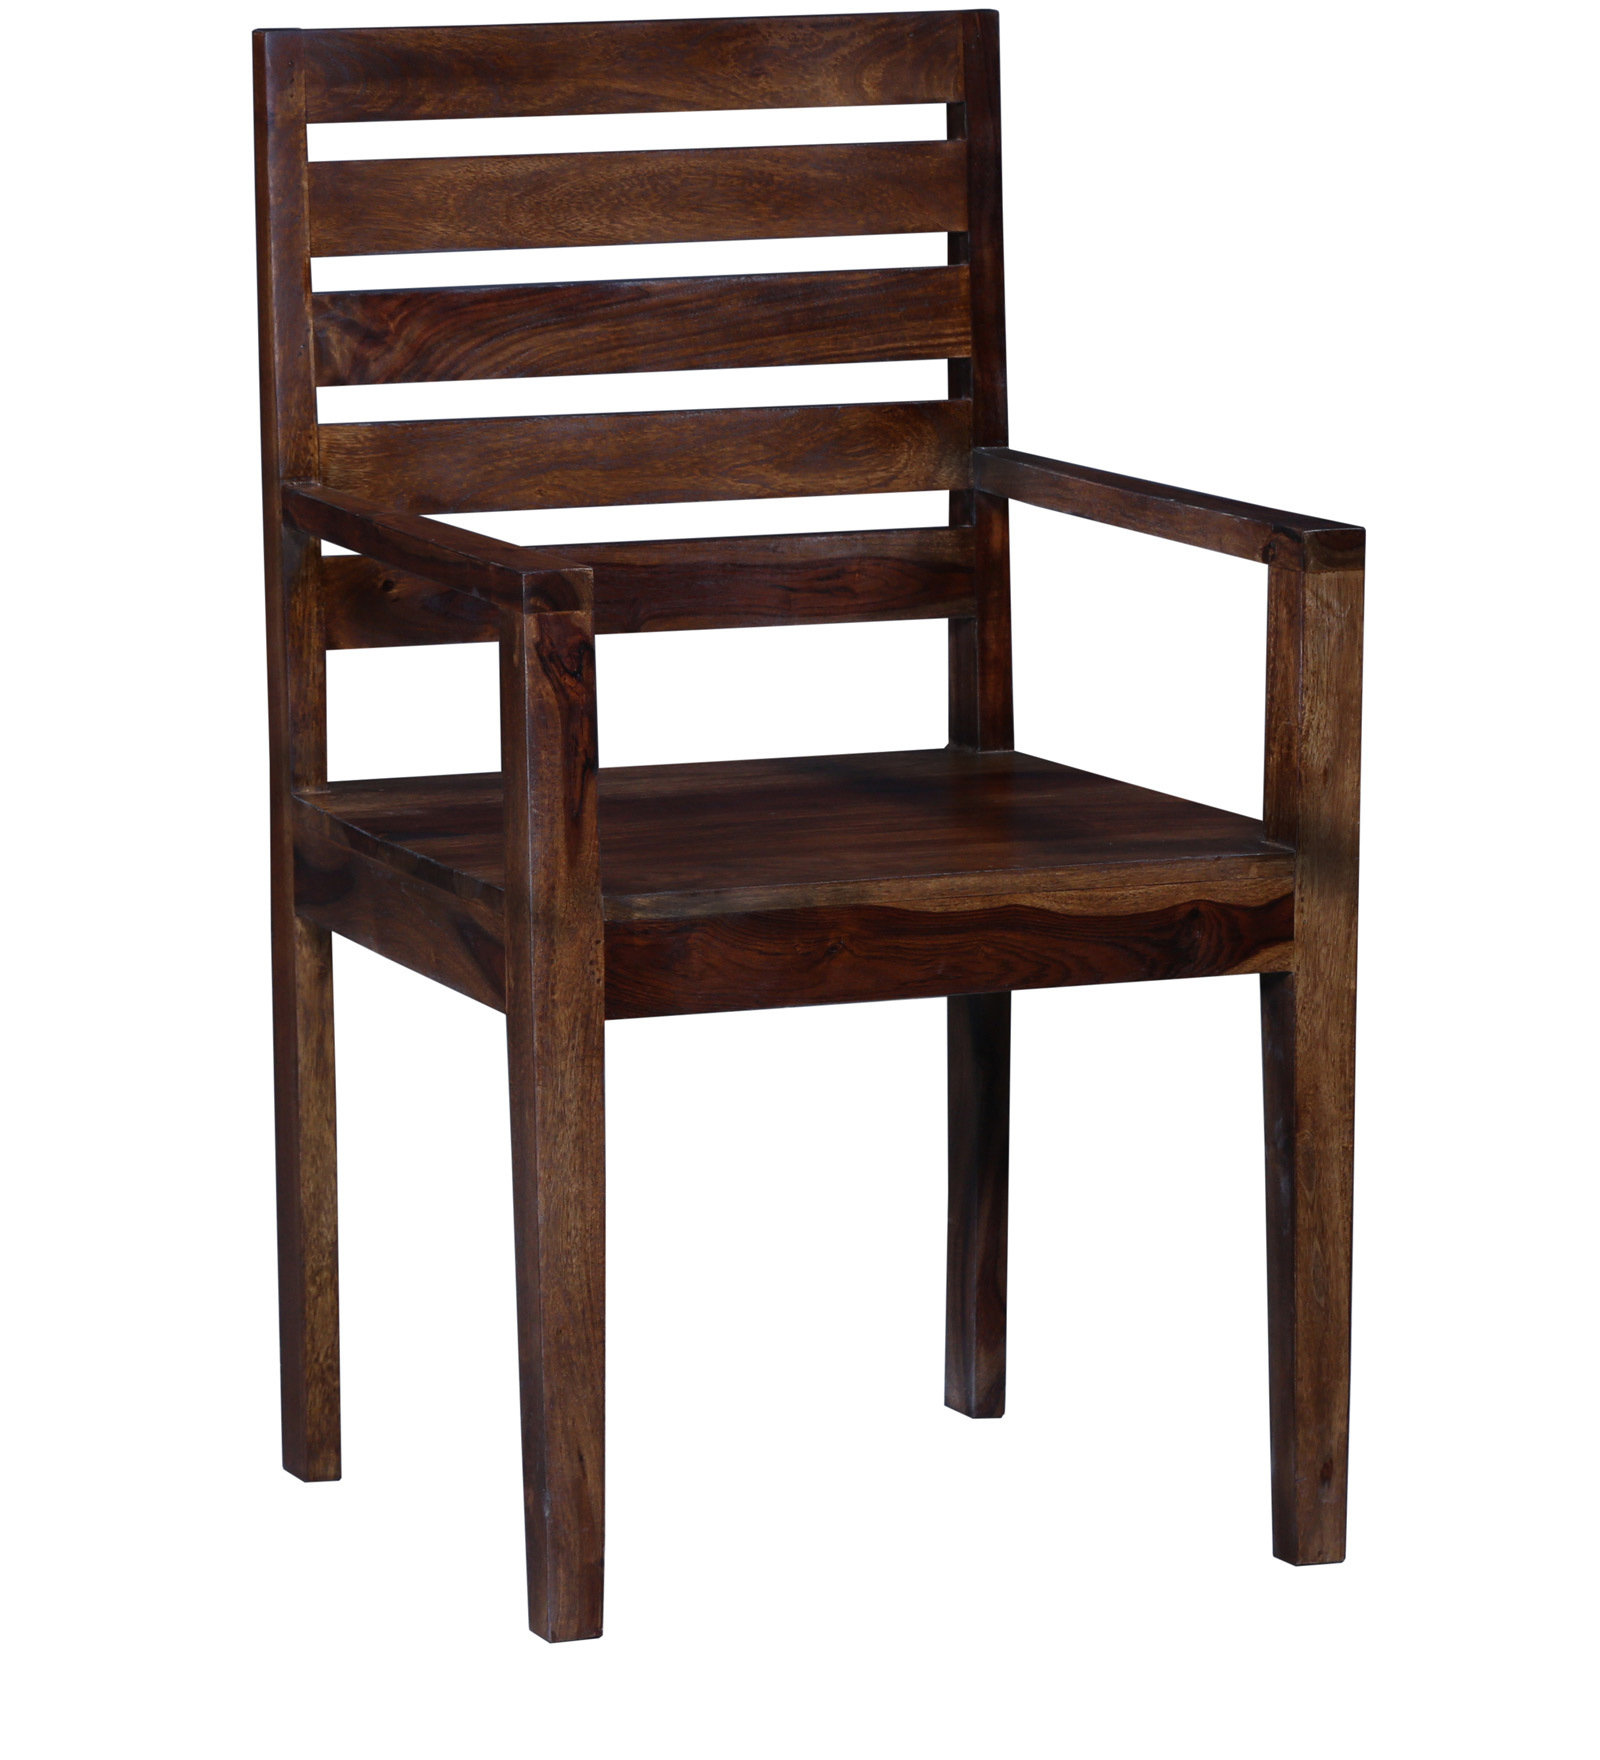Stigen Arm Chair in Provincial Teak Finish by Woodsworth: (179, 12, 1415, 1645)
